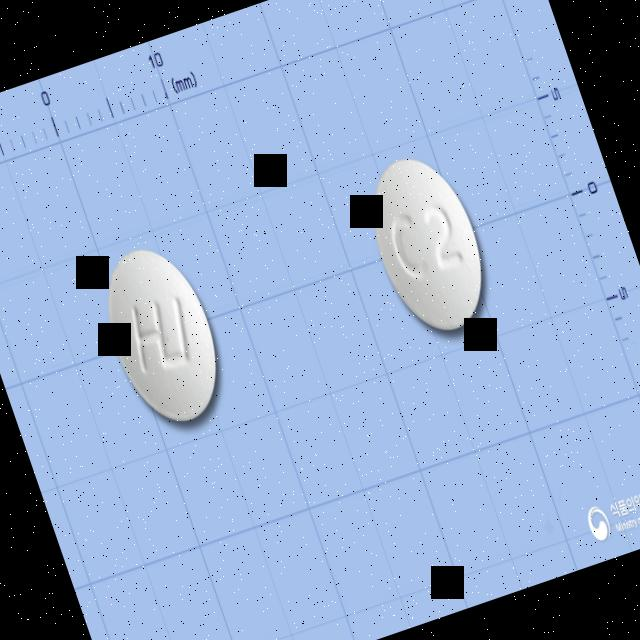Huloxacin: (87, 234, 238, 436), (352, 144, 502, 344)
